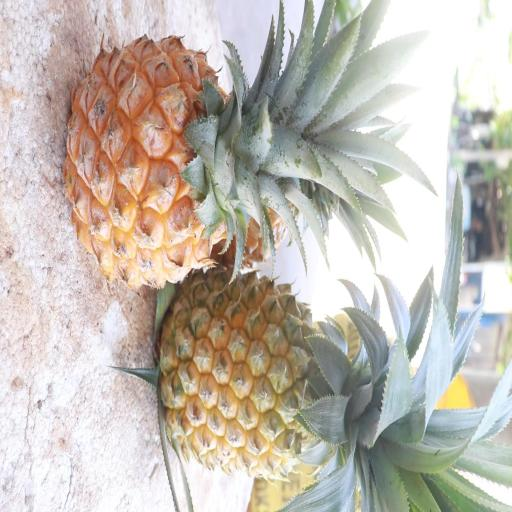Pineapple - v8 v1: (60, 21, 329, 292), (156, 259, 402, 488)
